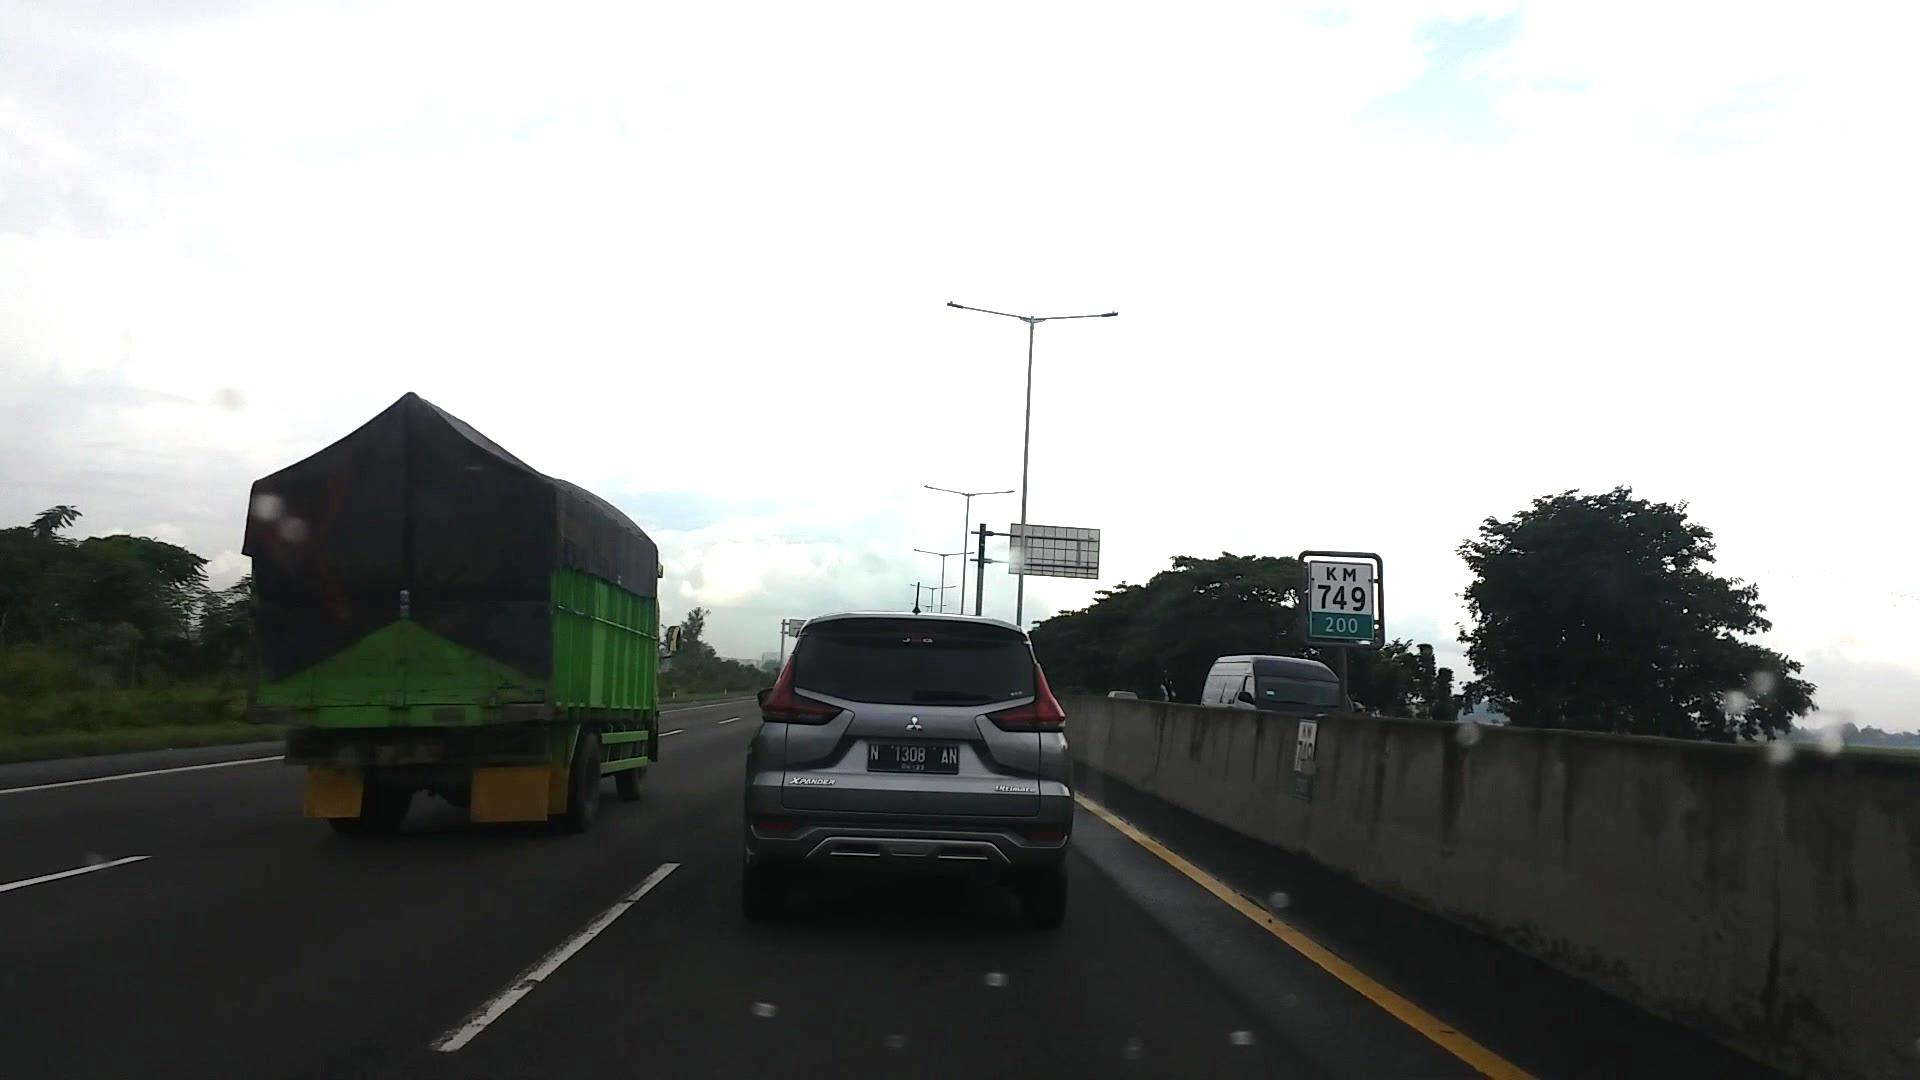plate_positive: (866, 742, 959, 774)
